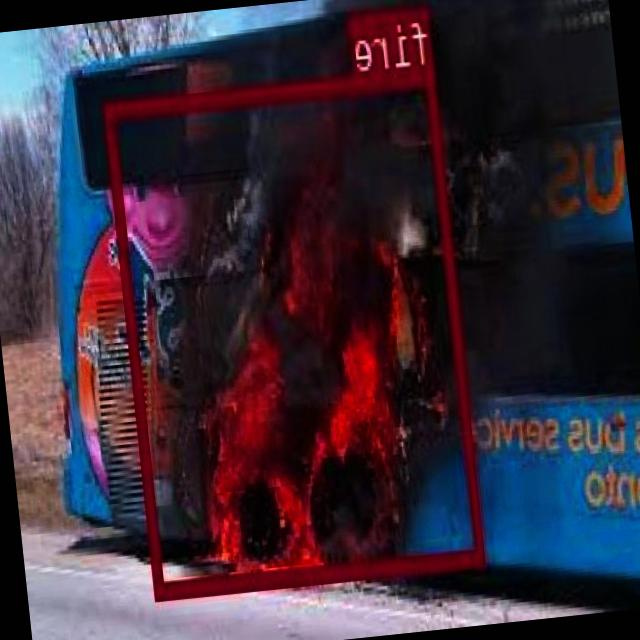fire: (105, 66, 488, 596)
